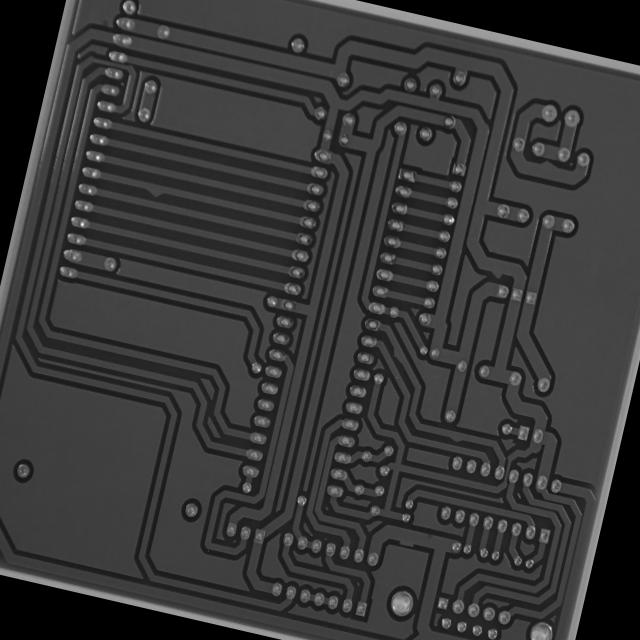spur: (136, 176, 172, 204), (384, 340, 412, 370), (441, 424, 468, 446), (392, 530, 419, 550), (487, 264, 510, 284)
